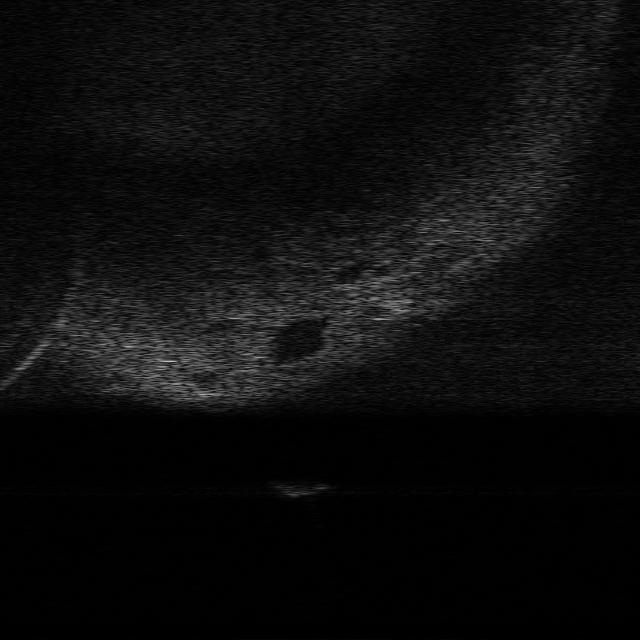cube: (270, 478, 329, 498)
